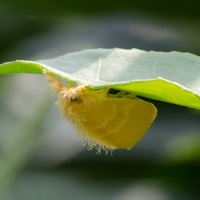insect: (44, 69, 156, 148)
